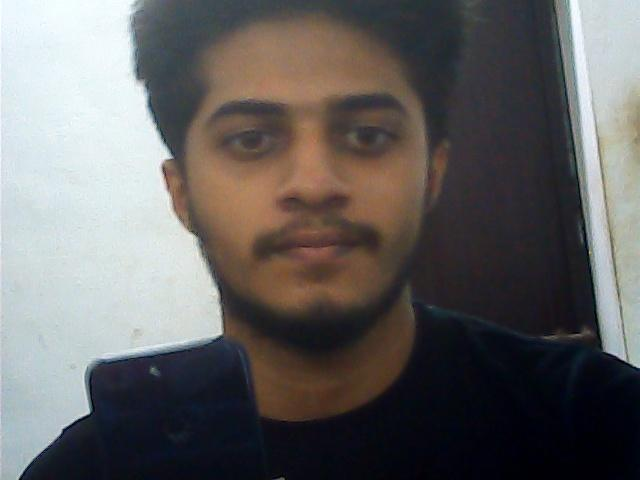PhoneUse: (80, 334, 268, 470)
SafeDriving: (324, 105, 411, 161), (208, 110, 294, 164)
